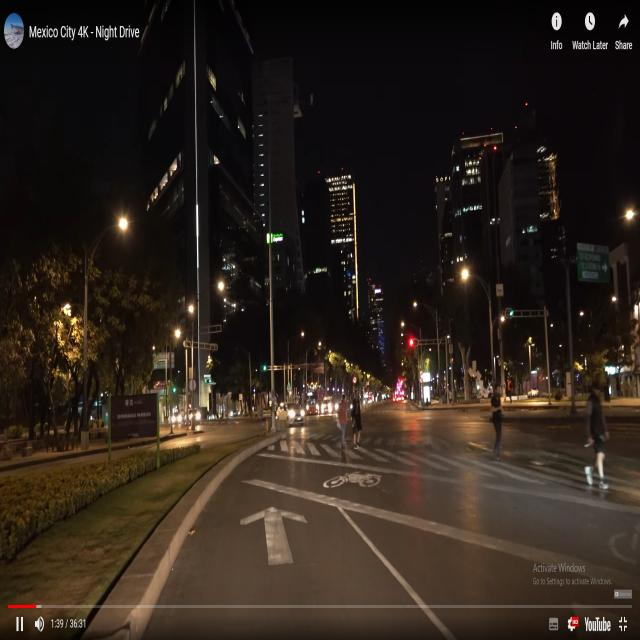headlights: (286, 405, 306, 423), (170, 413, 184, 426)
